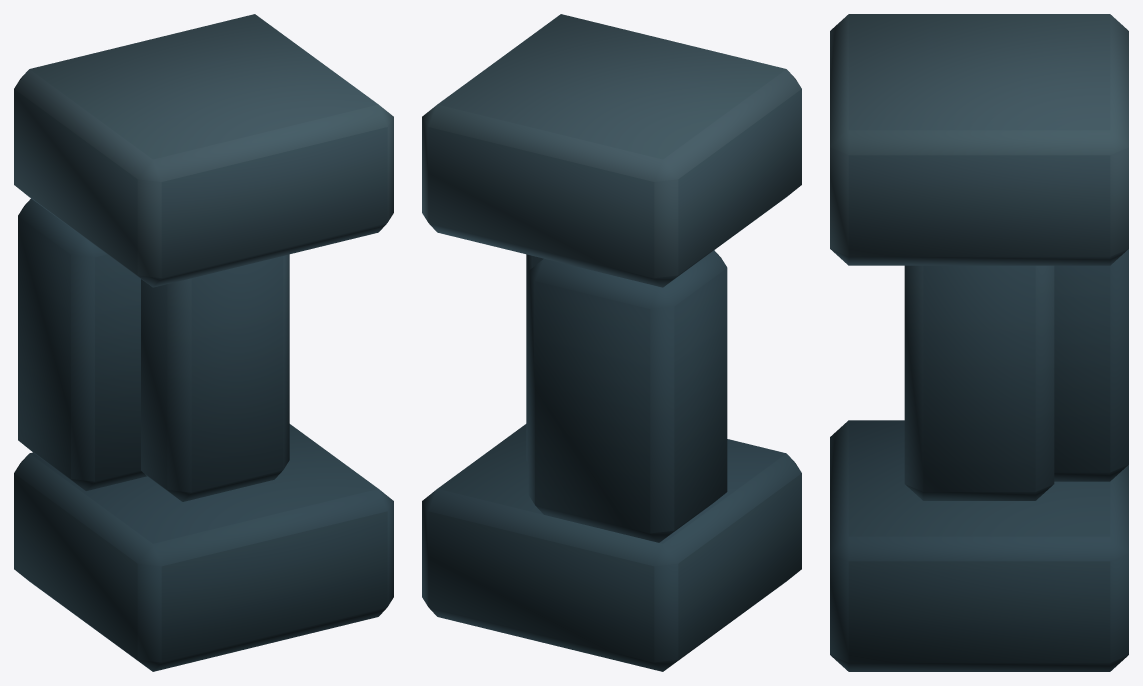
Rendered from wall_pannel_corner_hue_4.fbx.
3 views of the same model, side by side, from view 1: azimuth 30°, elevation 25°; view 2: azimuth 150°, elevation 25°; view 3: azimuth 270°, elevation 25° (orthographic). The views are drawn at different scales.
Parts seen in each view (by area): view 1: wall_pannel_corner_hue_4; view 2: wall_pannel_corner_hue_4; view 3: wall_pannel_corner_hue_4.
Boxes of the visible parts, box(x1,y1,x2,y2) form: wall_pannel_corner_hue_4: box(14, 14, 393, 671); wall_pannel_corner_hue_4: box(422, 14, 801, 671); wall_pannel_corner_hue_4: box(830, 14, 1128, 671).
Bounding box in the file's own units: 52.34 × 100 × 50.
